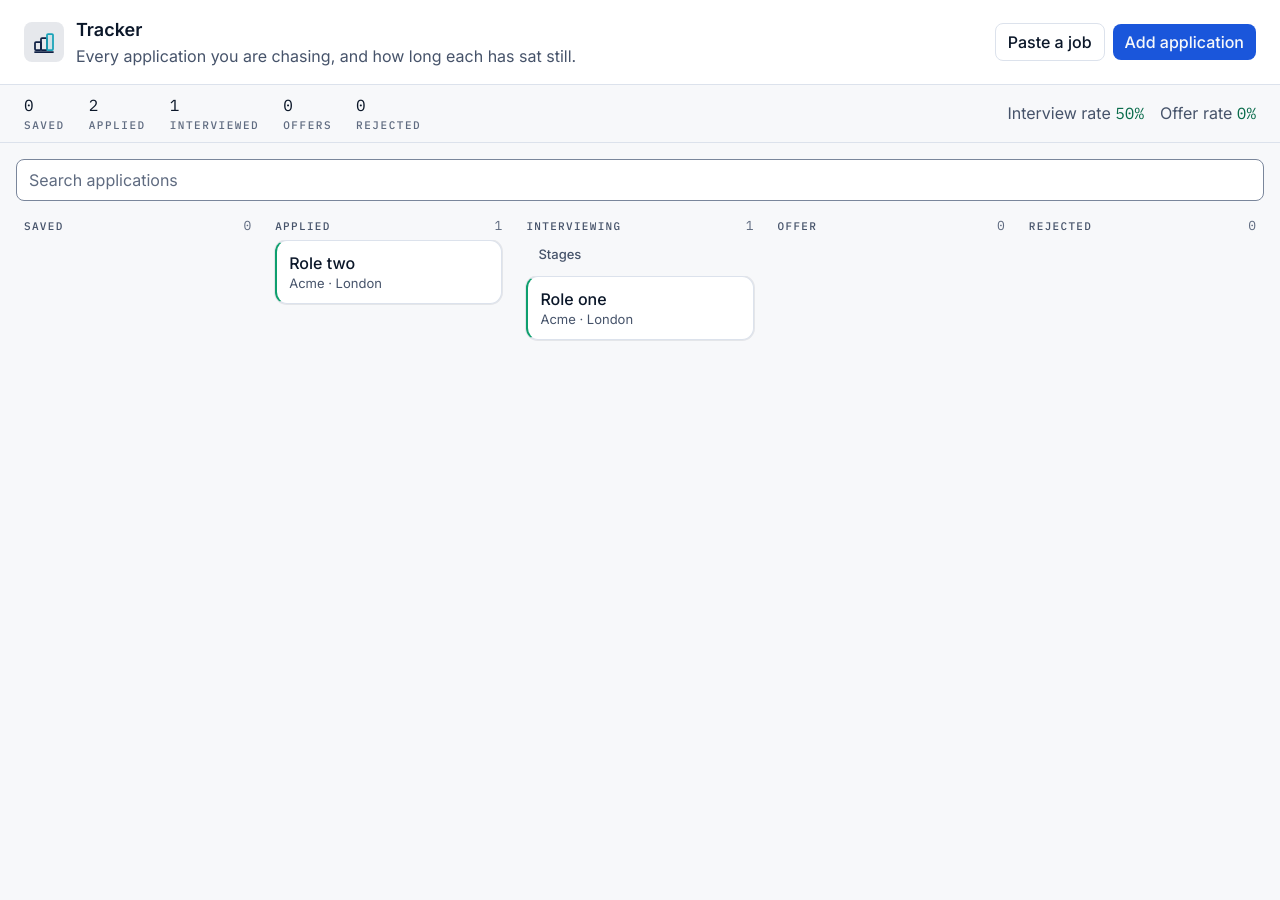
Scenario: choosing a sub-stage from the detail pane › is not offered for a card that is not Interviewing
Expected: the element with test id "tracker-column-interviewing" is shown, [518, 208, 762, 348]
Click the button with test id "tracker-card-two" at [389, 272], box [275, 240, 502, 304]
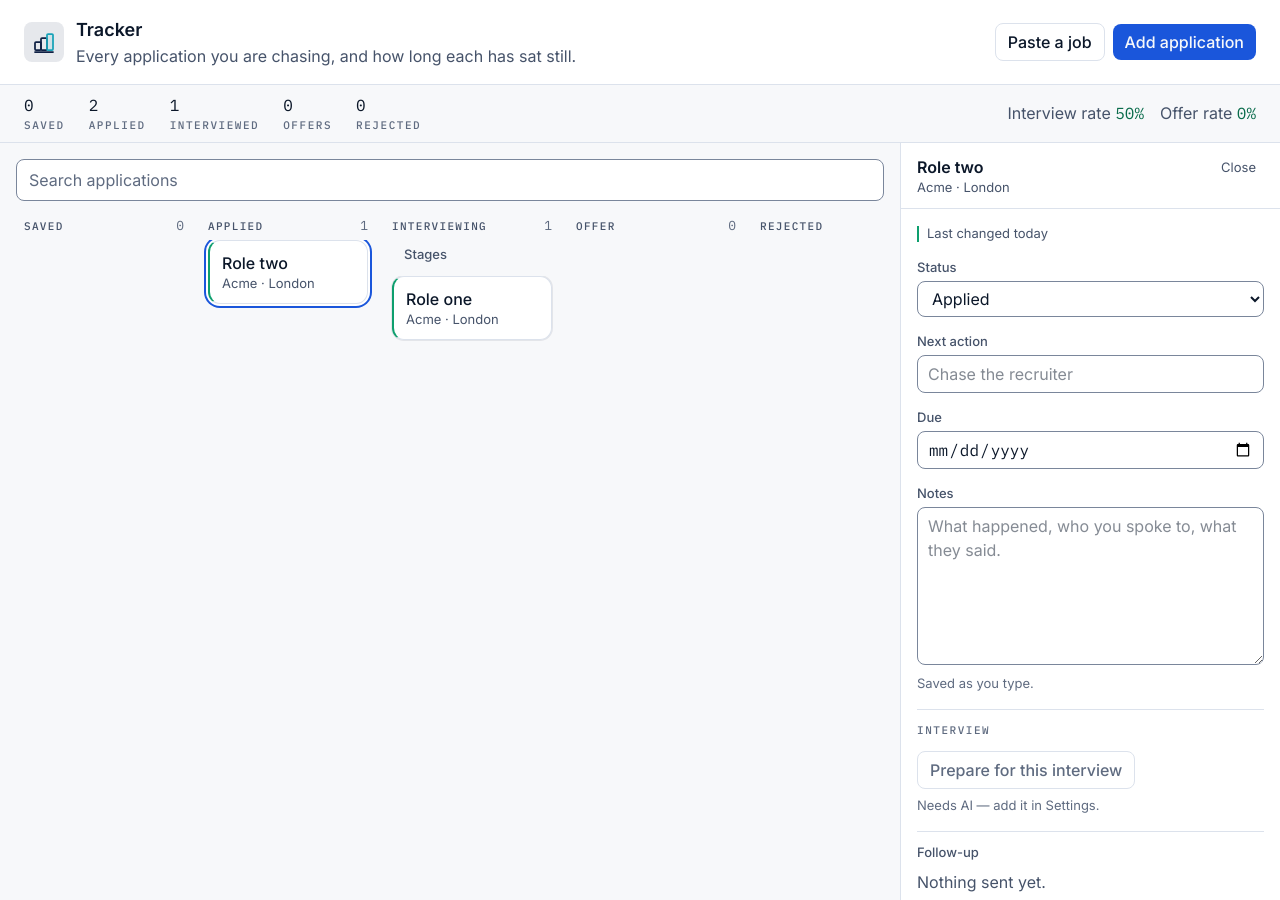
Now the dropdown with test id "detail-status" is shown, box [917, 282, 1264, 318]
